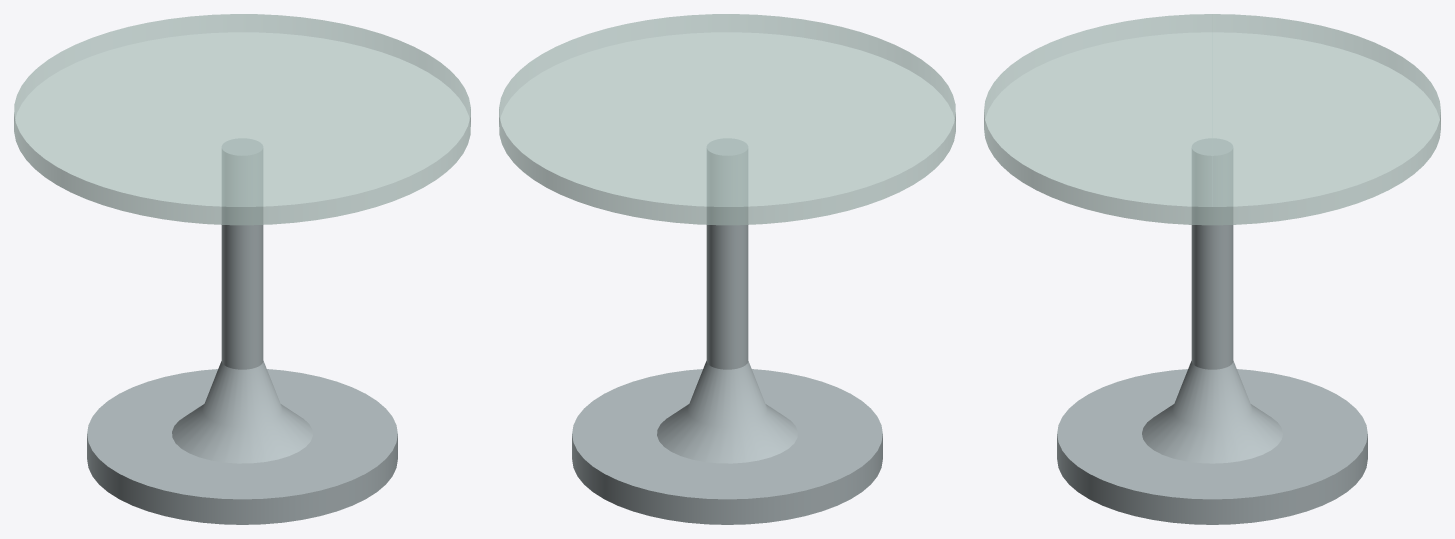
The model's file is prod-1773061941304-181rc.glb.
The picture shows the model from 3 angles, left to right: view 1: azimuth 30°, elevation 25°; view 2: azimuth 150°, elevation 25°; view 3: azimuth 270°, elevation 25°; orthographic projection.
Visible parts, largest first — view 1: Round or oval tabletop.008, Pedestal foot.006; view 2: Round or oval tabletop.008, Pedestal foot.006; view 3: Round or oval tabletop.008, Pedestal foot.006.
Boxes of the visible parts, x1=… form: Round or oval tabletop.008: x1=14, y1=14, x2=470, y2=225; Pedestal foot.006: x1=87, y1=138, x2=397, y2=524; Round or oval tabletop.008: x1=499, y1=14, x2=955, y2=225; Pedestal foot.006: x1=572, y1=138, x2=882, y2=524; Round or oval tabletop.008: x1=984, y1=14, x2=1440, y2=225; Pedestal foot.006: x1=1057, y1=138, x2=1367, y2=524.
Bounding box in the file's own units: 0.57 × 0.48 × 0.57.
